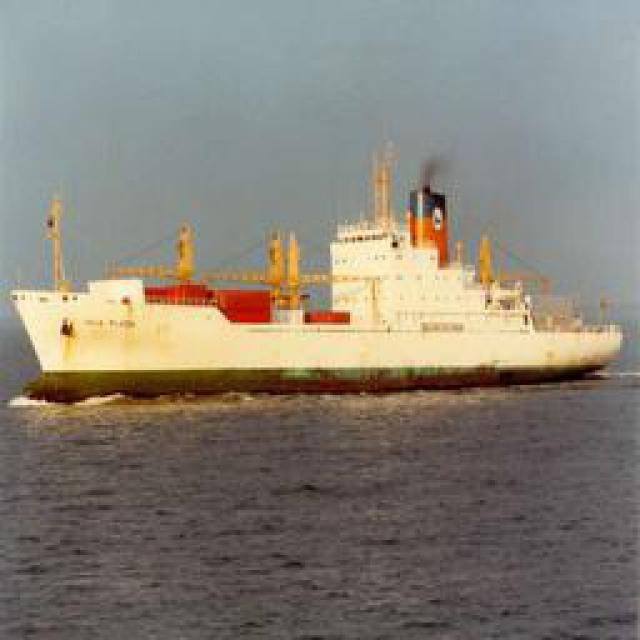Ship: (9, 213, 632, 408)
